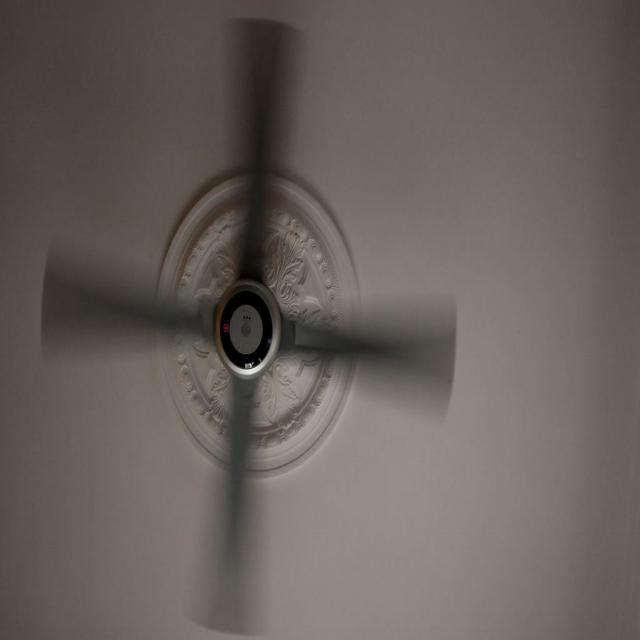fan_on: (41, 22, 458, 632)
